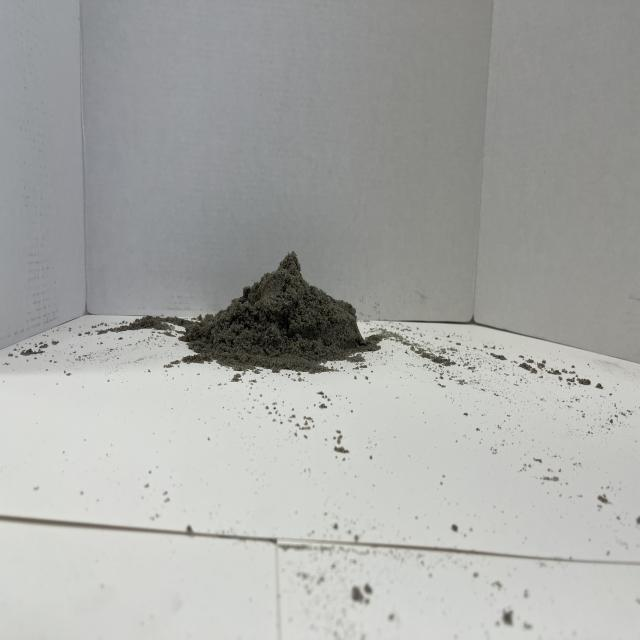sand: (172, 239, 389, 382)
